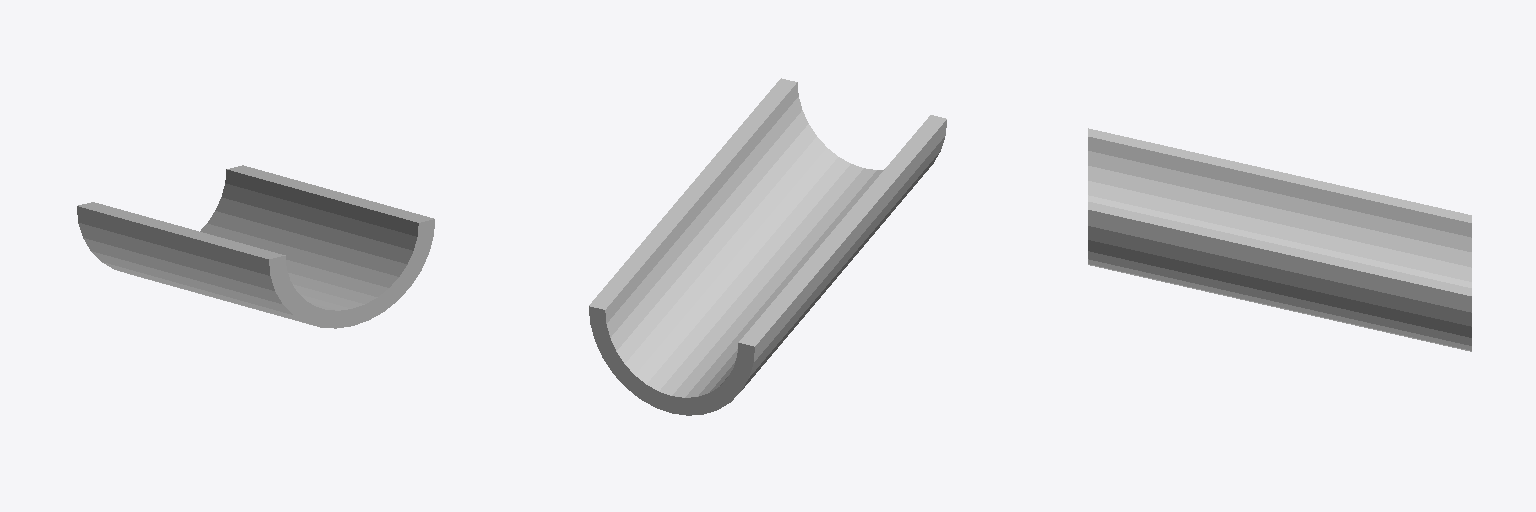
File: forward_up.obj
3 renders of one model, left to right at view 1: azimuth 30°, elevation 25°; view 2: azimuth 150°, elevation 25°; view 3: azimuth 270°, elevation 25°, orthographic.
Parts seen in each view (by area): view 1: ForwardUp_Circle.005; view 2: ForwardUp_Circle.005; view 3: ForwardUp_Circle.005.
Part boxes in pixels (bbox=[...]): ForwardUp_Circle.005: bbox=[77, 165, 434, 328]; ForwardUp_Circle.005: bbox=[589, 78, 946, 415]; ForwardUp_Circle.005: bbox=[1088, 128, 1471, 351].
Size of the model in its own units: 2 by 2 by 4.